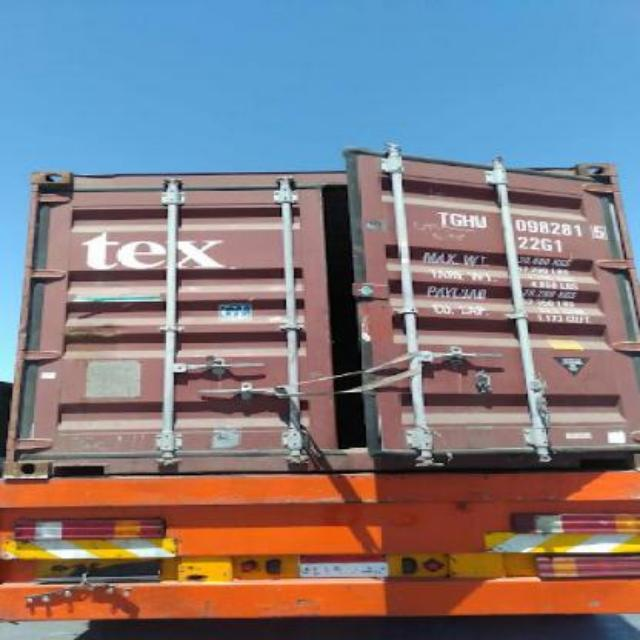0: (516, 216, 526, 232)
1: (574, 222, 586, 242)
2: (548, 218, 564, 236)
5: (594, 226, 608, 240)
8: (560, 218, 574, 238), (538, 219, 552, 237)
9: (526, 218, 538, 234)
G: (448, 210, 464, 230)
H: (462, 210, 474, 232)
T: (434, 206, 450, 228)
U: (478, 210, 490, 232)
